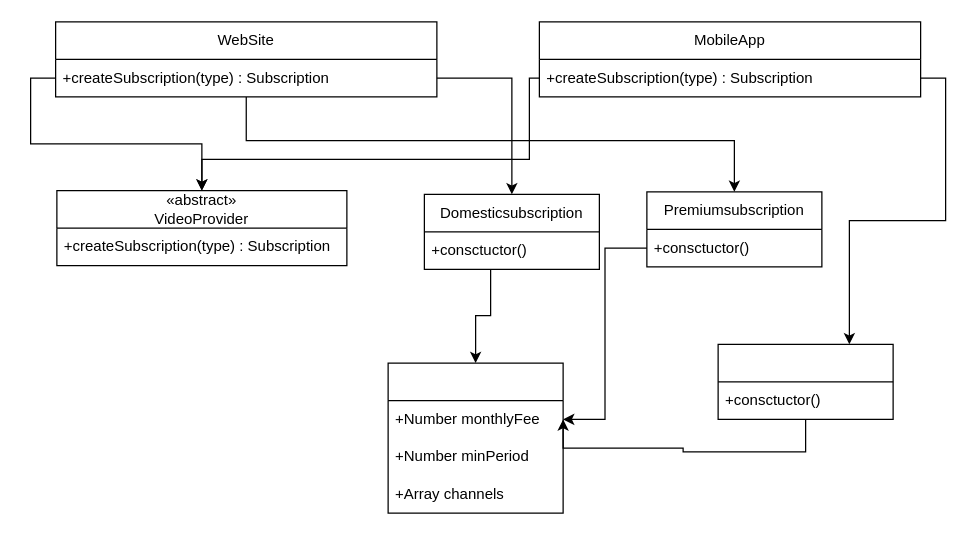
Some shapes in this 978 by 535 pixel diagram are drawn without their labels. Here are the shapes that lost their labels. From the top down, the box of each, then its label:
(717, 343, 893, 419): EducationalSubscription
(387, 362, 563, 513): Subscription
